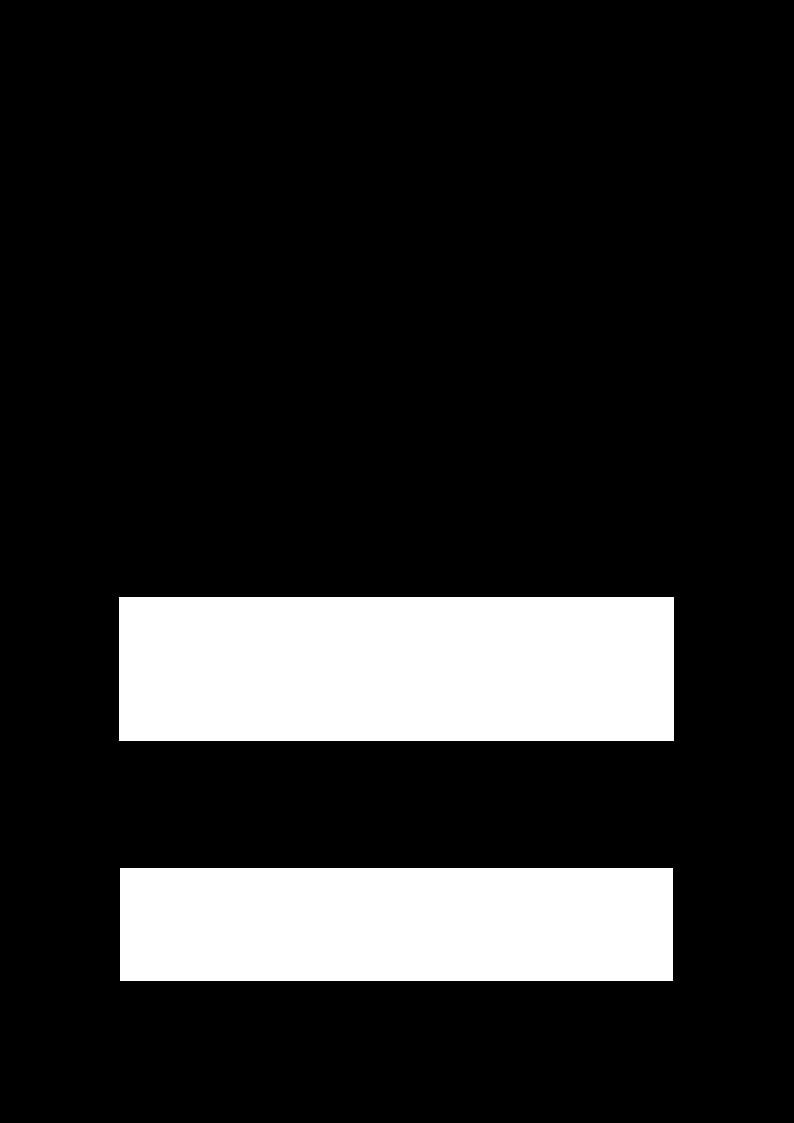table: (119, 597, 673, 740), (120, 868, 672, 980)
